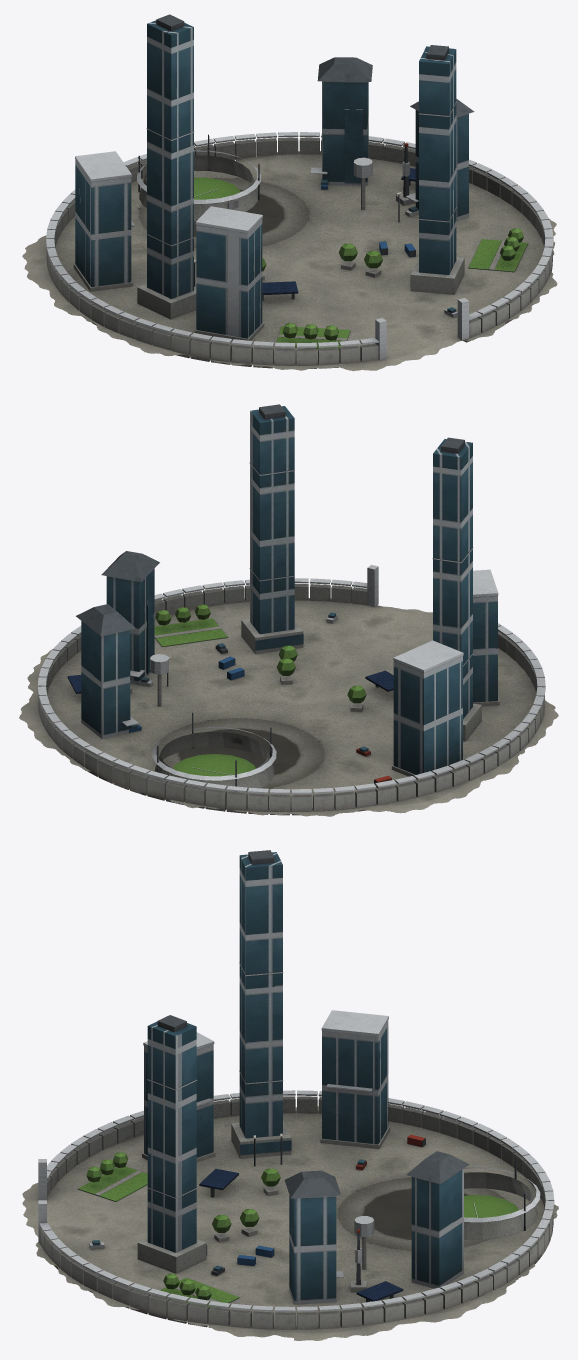
Rendered from information-town-small-b.glb.
3 renders of one model, top to bottom at view 1: azimuth 30°, elevation 25°; view 2: azimuth 150°, elevation 25°; view 3: azimuth 270°, elevation 25°, orthographic. The views are drawn at different scales.
Parts seen in each view (by area): view 1: LOD0; view 2: LOD0; view 3: LOD0.
Part boxes in pixels (x1,y1,x2,y2): LOD0: (22, 14, 557, 371); LOD0: (19, 404, 558, 816); LOD0: (22, 850, 558, 1340).
Size of what is drawn, in the model's own units: 3.99 by 2.3 by 3.87.
3 materials, 3 textured.
